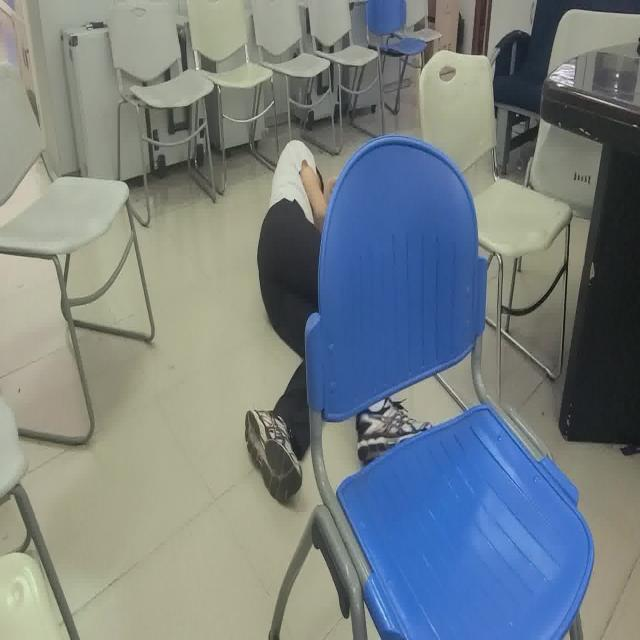fall: (242, 138, 433, 498)
